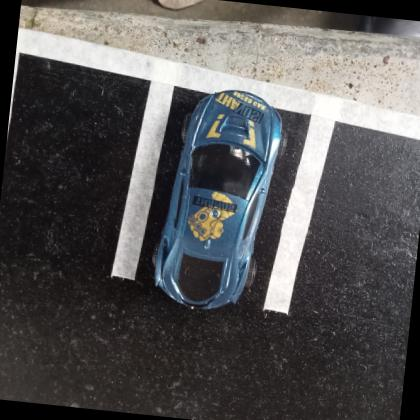Car: (153, 88, 282, 308)
